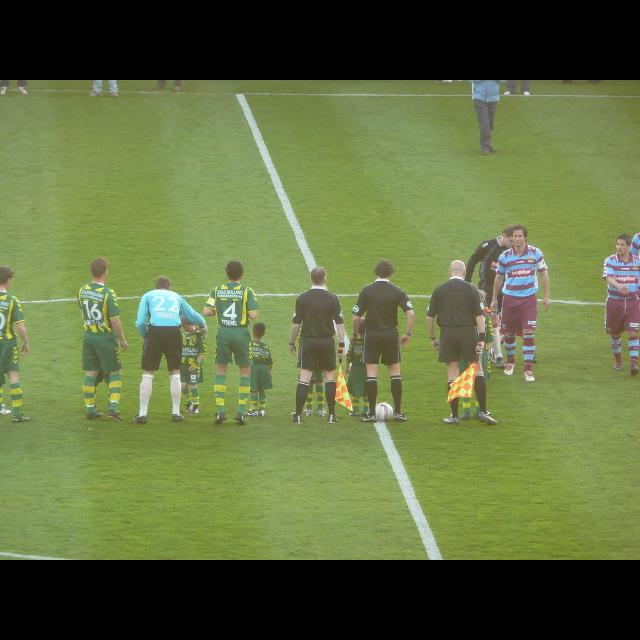Football: (374, 403, 392, 419)
